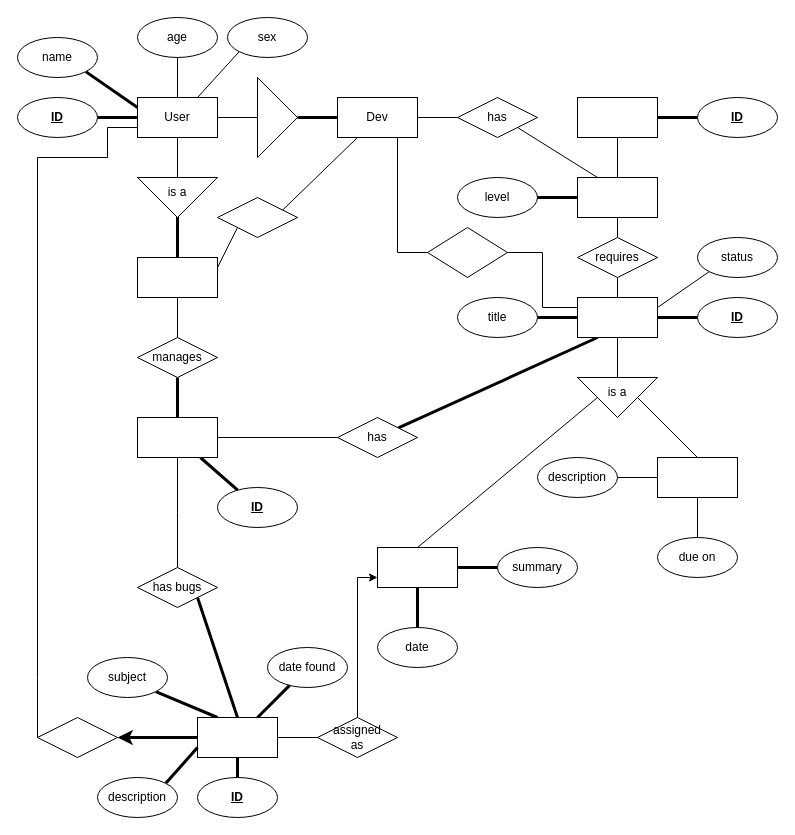
Image size: 795x835. Some labels were removed from this diagram. Each missing label, with the centre of its shape:
"bug" belongs at point 417,567.
"bug report" belongs at point 237,737.
"is assigend to" belongs at point 467,252.
"is_a" belongs at point 277,117.
"laguages" belongs at point 617,117.
"Manager" belongs at point 177,277.
"Project" belongs at point 177,437.
"reported_by" belongs at point 77,737.
"skill" belongs at point 617,197.
"step" belongs at point 697,477.
"supervises" belongs at point 257,217.
"task" belongs at point 617,317.
